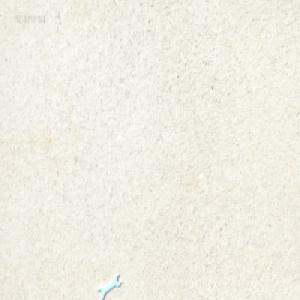Wrench: (98, 272, 122, 299)
